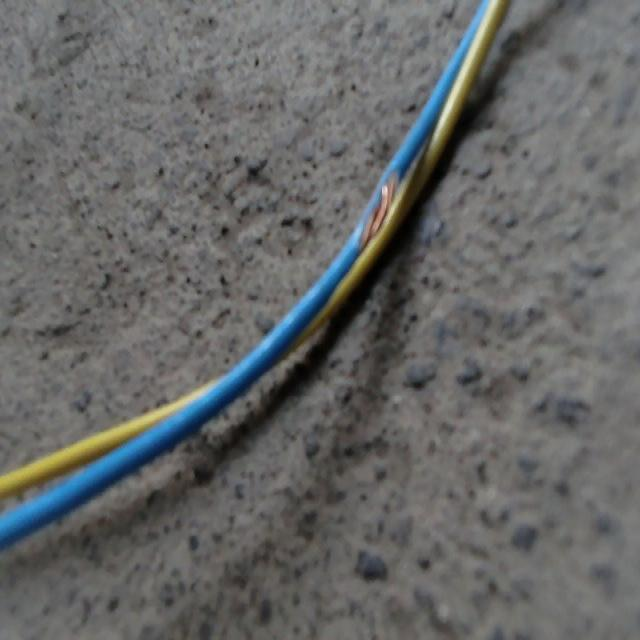-: (356, 169, 398, 251)
